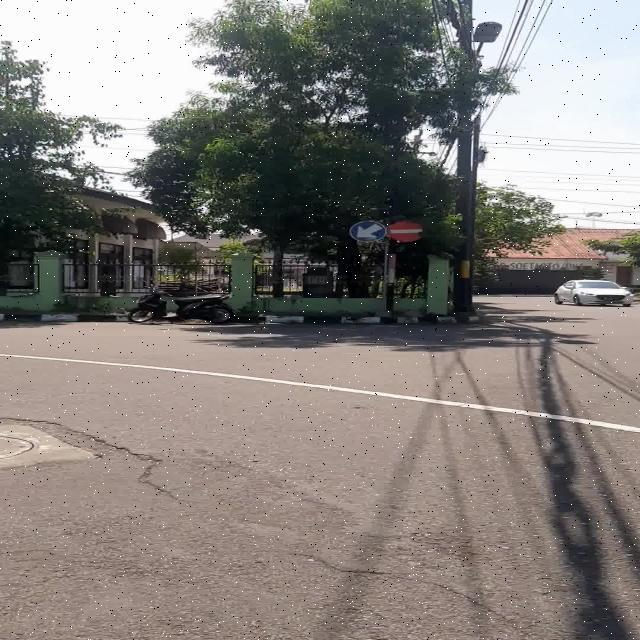Lajur Kiri: (350, 221, 387, 242)
